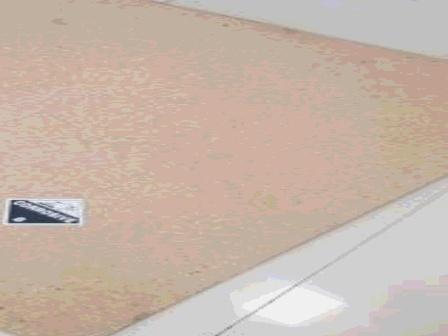corrosive: (8, 196, 96, 226)
